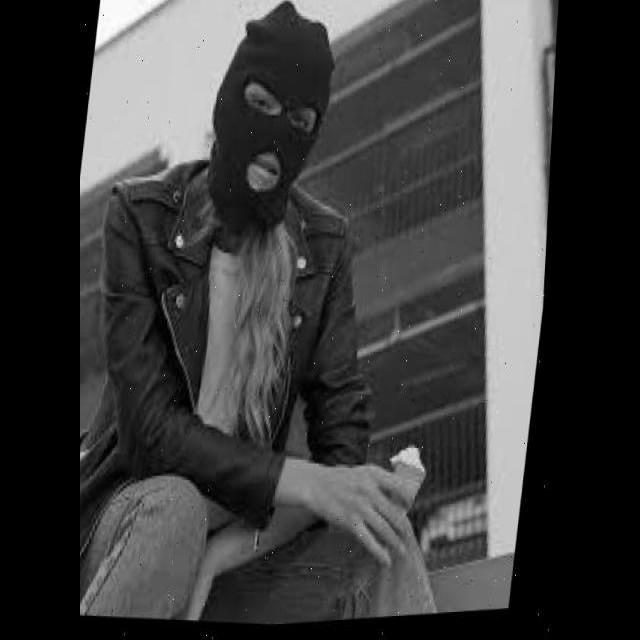6_pasamontana: (208, 0, 336, 233)
